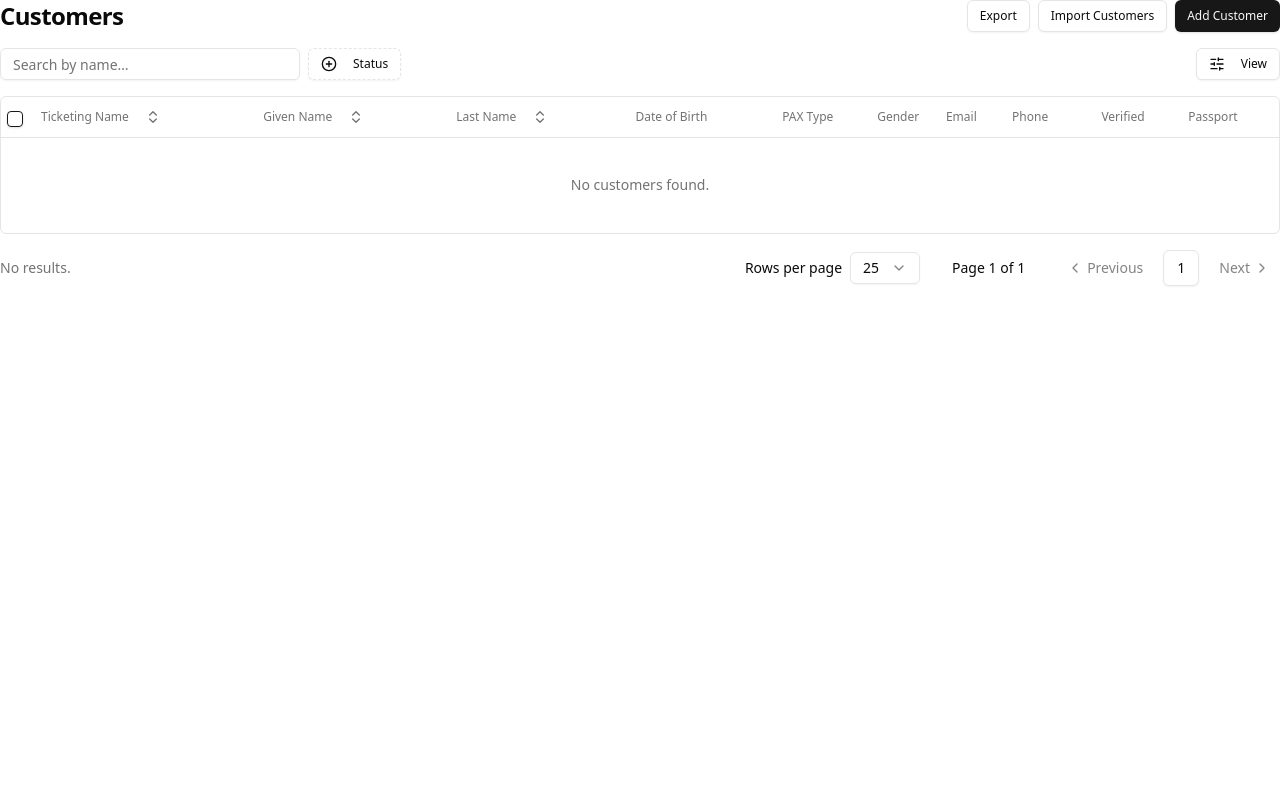
Test: CustomersPage › the Add Customer dialog disables the passport view button (no customer id yet)
This screenshot has width=1280, height=800.
Click the button "Add Customer": (1228, 16) [1175,0,1279,32]
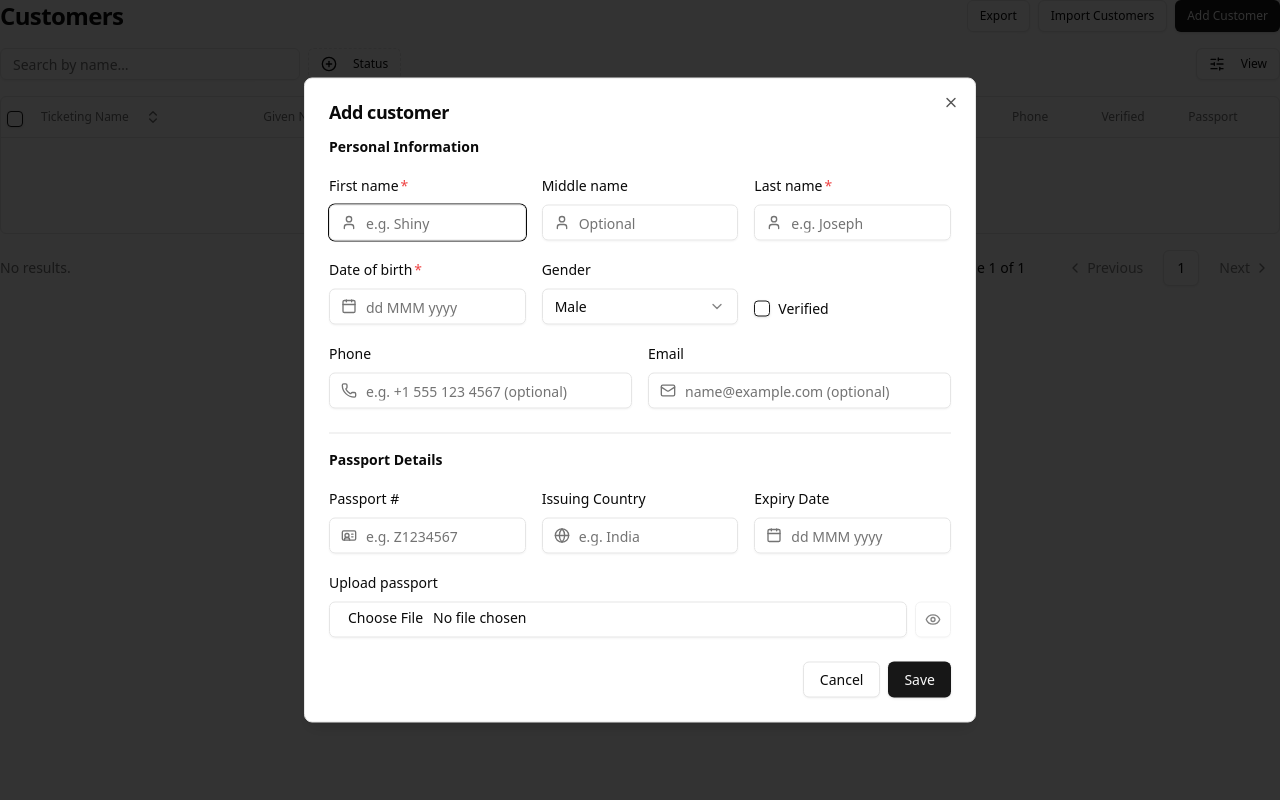
Check: the button named "View passport document" is disabled, box [915,602,951,638]
